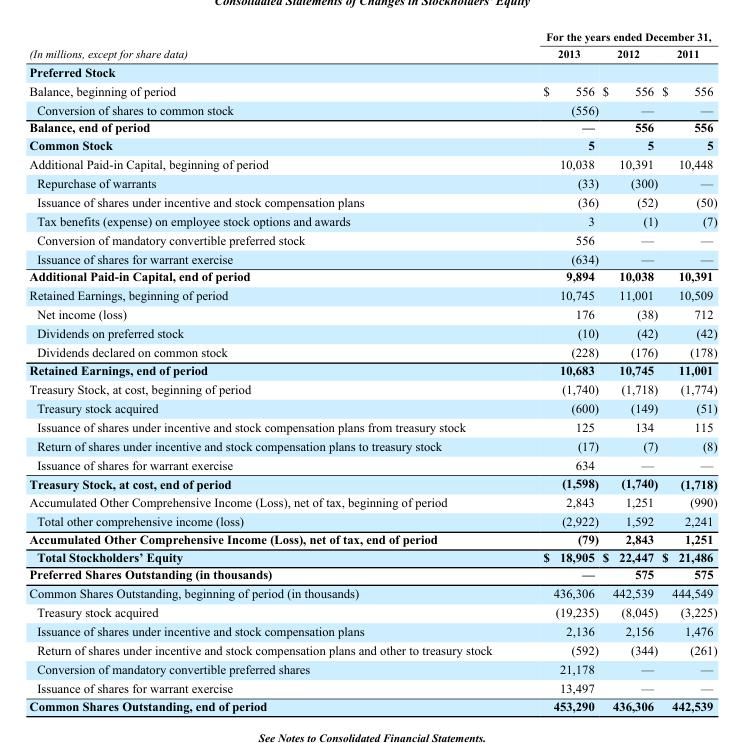table: (28, 29, 716, 712)
table column: (28, 29, 517, 712), (517, 29, 599, 712), (599, 29, 659, 712), (659, 29, 716, 712)
table column header: (28, 29, 716, 62)
table projected row header: (28, 62, 716, 81)
table row: (28, 62, 716, 81), (28, 81, 716, 100), (28, 154, 716, 173), (28, 173, 716, 192), (28, 192, 716, 211), (28, 211, 716, 230), (28, 230, 716, 249), (28, 285, 716, 304), (28, 304, 716, 323), (28, 323, 716, 342), (28, 360, 716, 379), (28, 379, 716, 398), (28, 398, 716, 417), (28, 435, 716, 454), (28, 454, 716, 473), (28, 473, 716, 492), (28, 492, 716, 511), (28, 583, 716, 602), (28, 602, 716, 621), (28, 621, 716, 640), (28, 640, 716, 659), (28, 659, 716, 678), (28, 44, 716, 62), (28, 100, 716, 118), (28, 118, 716, 136), (28, 136, 716, 154), (28, 249, 716, 267), (28, 267, 716, 285), (28, 342, 716, 360), (28, 417, 716, 435), (28, 511, 716, 529), (28, 529, 716, 547), (28, 547, 716, 565), (28, 565, 716, 583), (28, 678, 716, 696), (28, 696, 716, 712), (28, 29, 716, 44)
table spanning cell: (28, 29, 517, 62), (517, 29, 716, 44)
